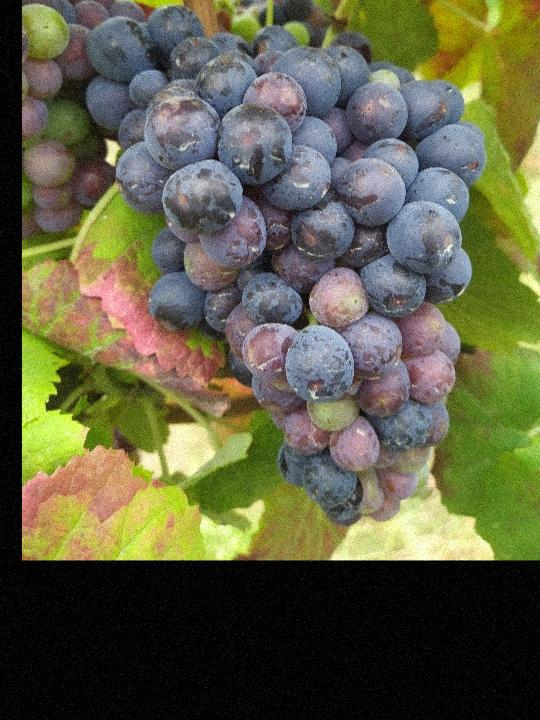grape: (83, 6, 488, 526)
